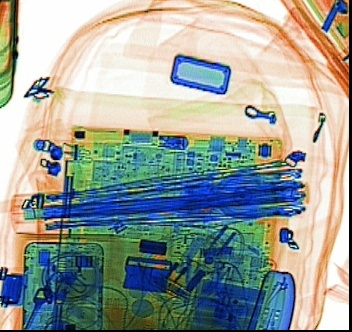powerbank: (182, 246, 277, 329)
